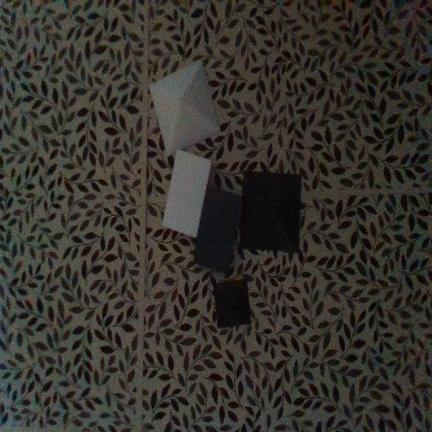Paralelepipedo: (163, 150, 211, 238), (193, 186, 242, 272)
Piramide: (149, 60, 219, 155), (239, 172, 301, 253), (214, 279, 250, 328)
